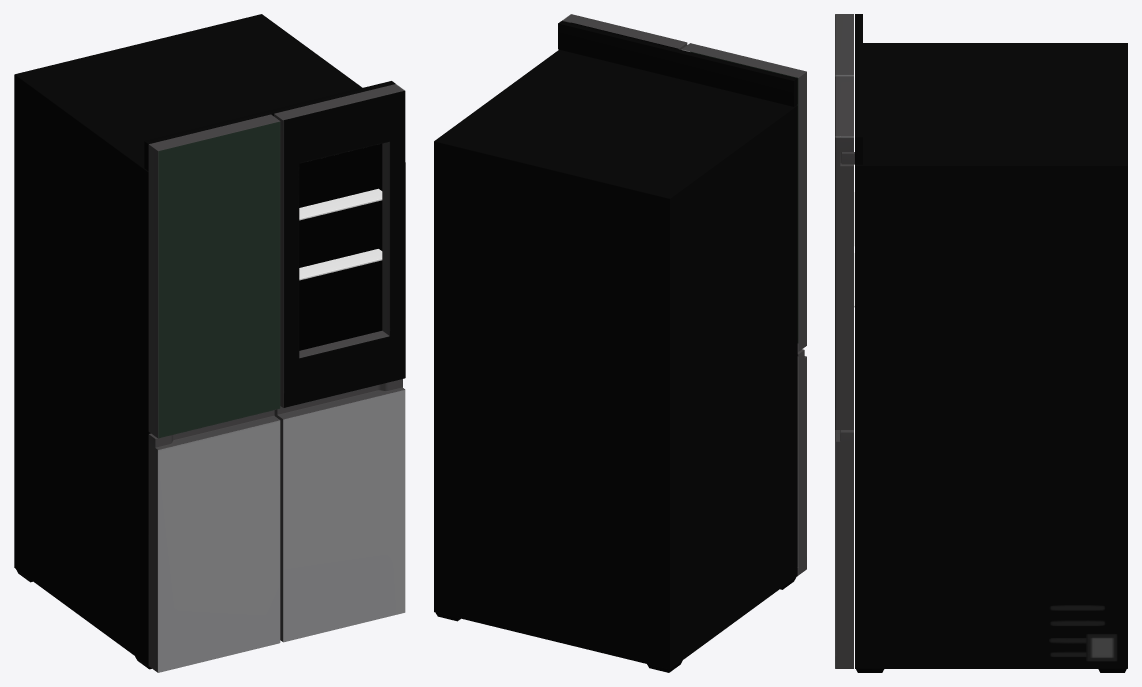
File: electronic_64_02.001.fbx
3 views of the same model, side by side, from view 1: azimuth 30°, elevation 25°; view 2: azimuth 150°, elevation 25°; view 3: azimuth 270°, elevation 25° (orthographic). The views are drawn at different scales.
Parts seen in each view (by area): view 1: electronic_64_02.001; view 2: electronic_64_02.001; view 3: electronic_64_02.001.
Boxes of the visible parts, x1,y1,x2,y2 form: electronic_64_02.001: (14, 14, 405, 672); electronic_64_02.001: (434, 14, 806, 672); electronic_64_02.001: (835, 14, 1127, 672).
Bounding box in the file's own units: 91.4 × 186 × 91.84.
Materials: 1 (1 with a texture image).
